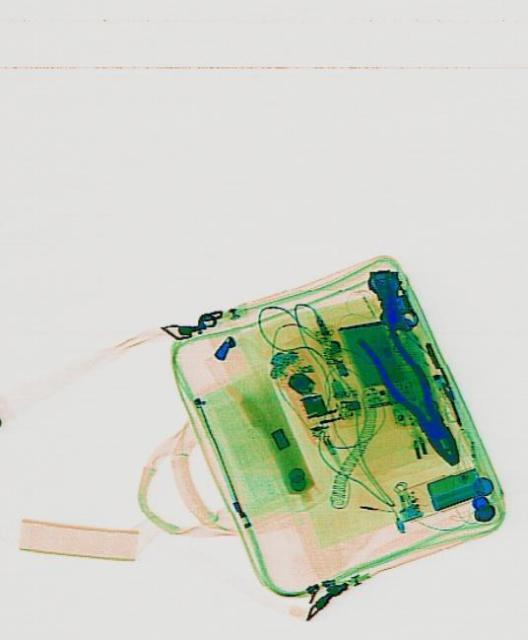Pliers: (353, 312, 472, 478)
